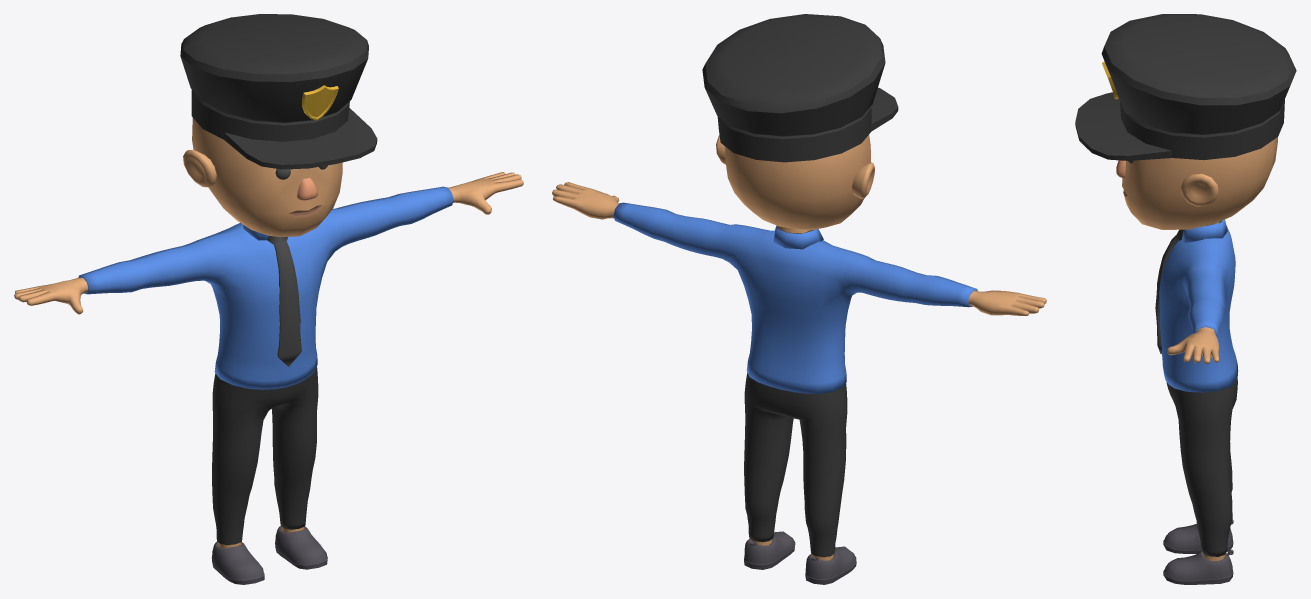
File: Policeman.fbx
3 views of the same model, side by side, from view 1: azimuth 30°, elevation 25°; view 2: azimuth 150°, elevation 25°; view 3: azimuth 270°, elevation 25° (orthographic). The views are drawn at different scales.
Visible parts, largest first — view 1: Police Man_Police_0.002, Body.008, Body.009, Body.010, Shoes.R, Police Man_Police_0.003; view 2: Body.008, Police Man_Police_0.002, Body.009, Body.010, Shoes.R, Police Man_Police_0.003; view 3: Police Man_Police_0.002, Body.010, Body.008, Body.009, Shoes.R, Police Man_Police_0.003.
Boxes of the visible parts, x1=… form: Police Man_Police_0.002: x1=180, y1=14, x2=377, y2=169; Body.008: x1=78, y1=186, x2=453, y2=389; Body.009: x1=212, y1=367, x2=318, y2=545; Body.010: x1=14, y1=117, x2=523, y2=548; Shoes.R: x1=211, y1=526, x2=327, y2=584; Police Man_Police_0.003: x1=242, y1=224, x2=301, y2=366; Body.008: x1=613, y1=202, x2=977, y2=394; Police Man_Police_0.002: x1=702, y1=14, x2=898, y2=162; Body.009: x1=744, y1=372, x2=847, y2=557; Body.010: x1=552, y1=135, x2=1046, y2=560; Shoes.R: x1=744, y1=531, x2=856, y2=584; Police Man_Police_0.003: x1=773, y1=225, x2=823, y2=249; Police Man_Police_0.002: x1=1075, y1=14, x2=1296, y2=160; Body.010: x1=1116, y1=137, x2=1277, y2=560; Body.008: x1=1159, y1=225, x2=1238, y2=392; Body.009: x1=1166, y1=377, x2=1237, y2=556; Shoes.R: x1=1163, y1=519, x2=1233, y2=584; Police Man_Police_0.003: x1=1155, y1=219, x2=1227, y2=353.
Bounding box in the file's own units: 154 × 156 × 59.78.
